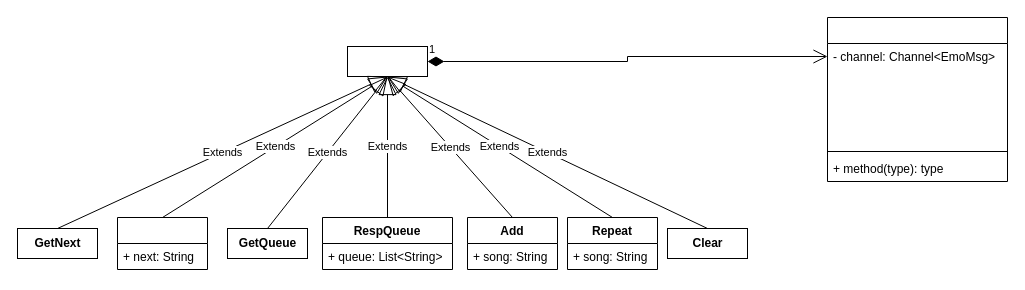
The diagram is 1025 pixels wide and 290 high, and some of its shapes have lost their labels. Here are the shapes that lost their labels. From the top down, the box of each, then its label:
(346, 46, 428, 76): EmoMsg
(826, 16, 1008, 182): EmoConnection
(116, 216, 208, 270): RespNext
